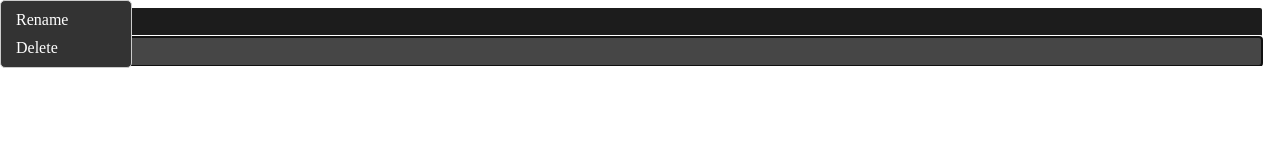
FileExplorer › Renaming › should not be able to rename files to the same thing
Click the list item "Rename" at (42, 20), box [16, 11, 68, 28]
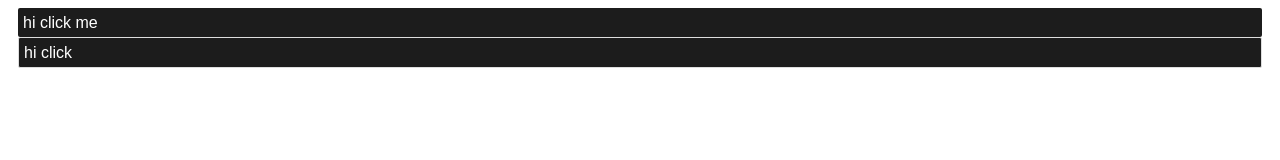
Type keys " me[Enter]"
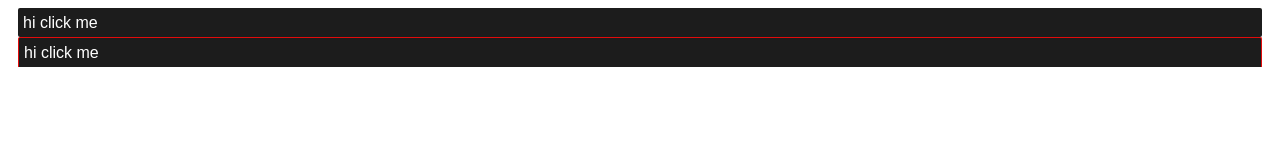
Now the number of buttons "hi click me" is 1, box [18, 8, 1262, 37]
Now the field showing "hi click" holds "hi click me", box [18, 37, 1262, 67]
